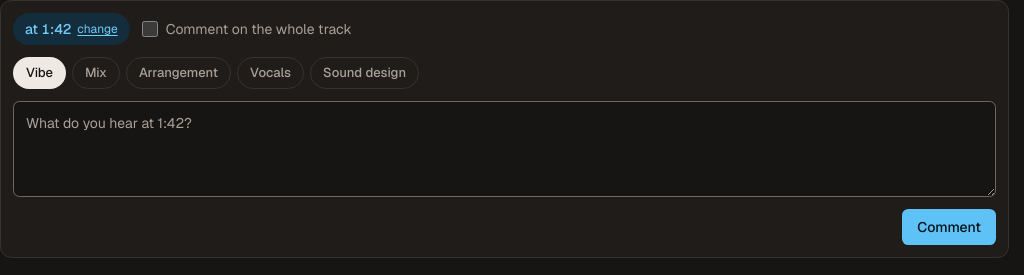
Test: CommentComposer › refuses text over the limit
In the text box named "Comment": (504, 149) [13,101,996,197], type "This is far too long"
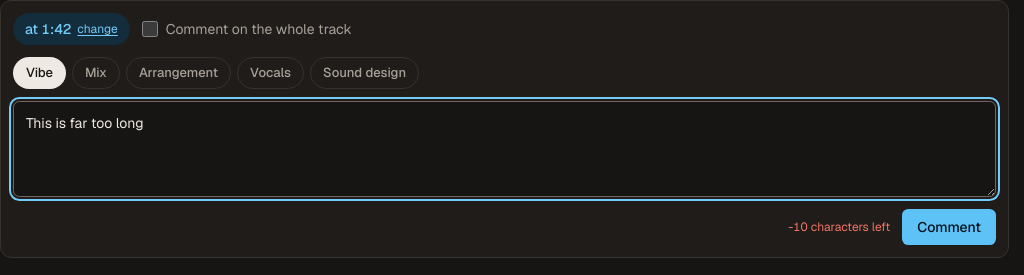
Click the button "Comment": (949, 227) [902,209,996,245]
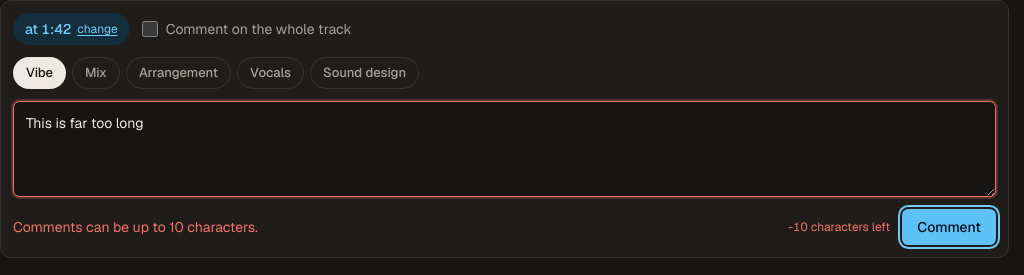
Expected: the text "Comments can be up to 10 characters." is shown, [13,217,258,237]
